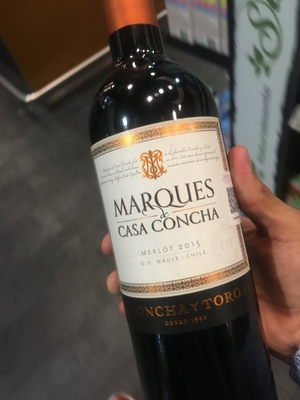marques de casa concha merlot: (82, 14, 268, 378)
